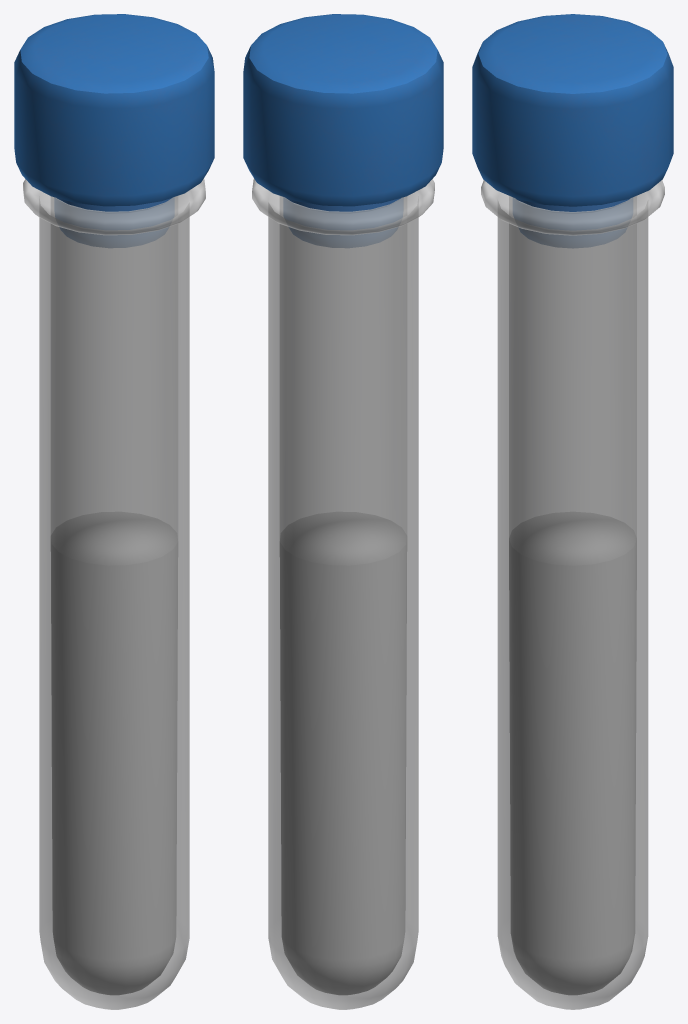
The model's file is SM_MIO.fbx.
3 renders of one model, left to right at view 1: azimuth 30°, elevation 25°; view 2: azimuth 150°, elevation 25°; view 3: azimuth 270°, elevation 25°, orthographic.
Visible parts, largest first — view 1: polySurface29; view 2: polySurface29; view 3: polySurface29.
Boxes of the visible parts, left/top/right/bottom form: polySurface29: left=14, top=14, right=214, bottom=1009; polySurface29: left=243, top=14, right=443, bottom=1009; polySurface29: left=472, top=14, right=673, bottom=1009.
Bounding box in the file's own units: 2.96 × 15.49 × 2.96.
